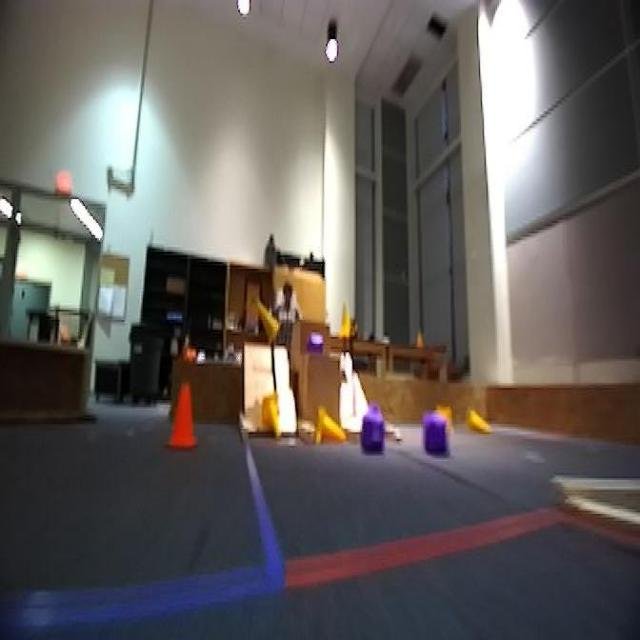frc_cone: (316, 408, 350, 453), (254, 300, 284, 340), (255, 393, 281, 439), (337, 294, 352, 340), (435, 407, 455, 439), (468, 406, 487, 431)
frc_cube: (358, 408, 389, 454), (424, 405, 448, 460), (308, 332, 326, 354)
